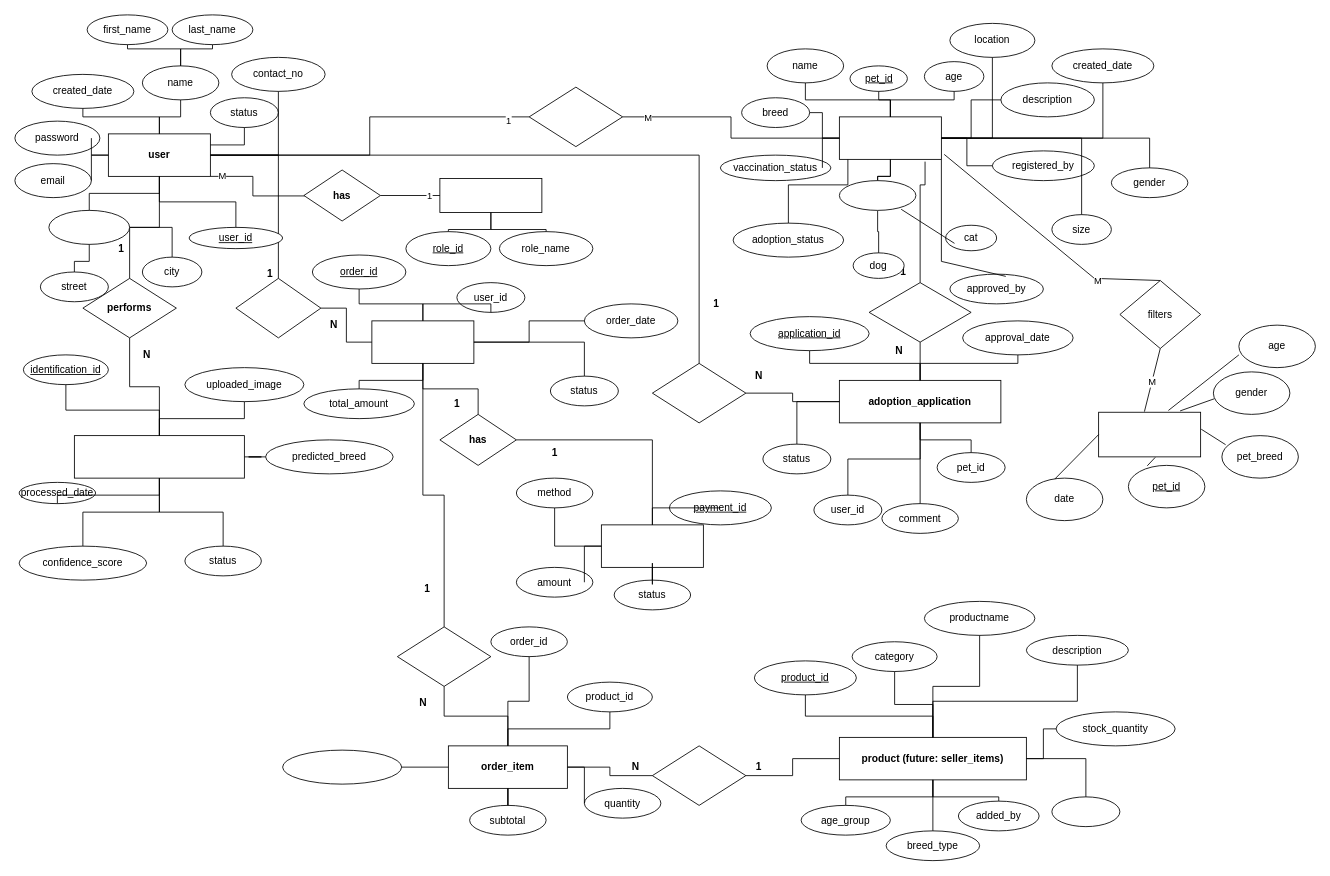
Some shapes in this 1330 by 876 pixel diagram are drawn without their labels. Here are the shapes that lost their labels. From the top down, the centre of each, then its label:
At point (575, 116): "registers".
At point (890, 137): "pet".
At point (490, 195): "role".
At point (877, 195): "species".
At point (89, 227): "address".
At point (278, 308): "places".
At point (919, 312): "application".
At point (422, 341): "order".
At point (699, 393): "submits".
At point (1149, 434): "filter_history".
At point (159, 456): "breed_identification".
At point (652, 545): "payment".
At point (444, 656): "contains".
At point (342, 766): "order_item_id".
At point (699, 775): "includes".
At point (1085, 811): "price".
